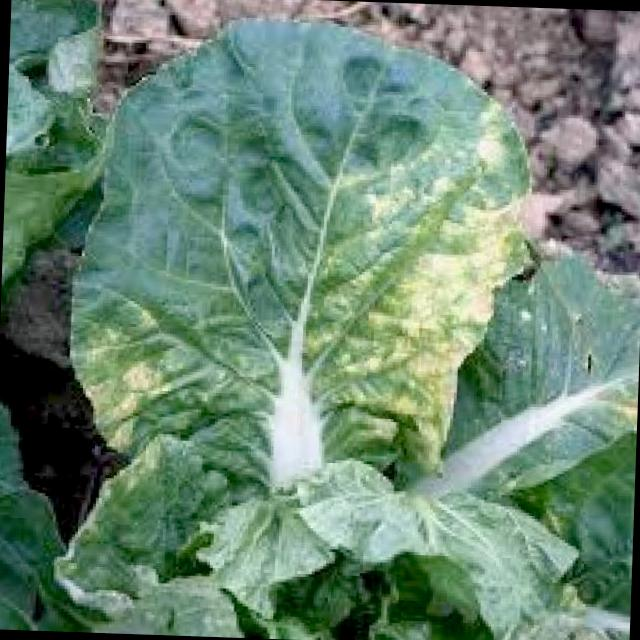Downy_mildew: (292, 130, 508, 428)
